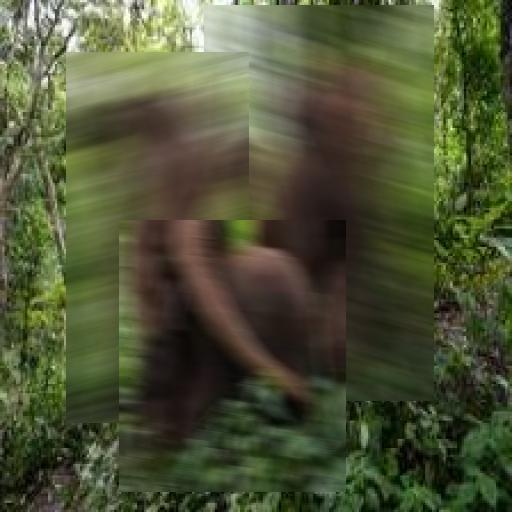Elephant: (204, 5, 434, 401), (66, 52, 249, 423), (119, 220, 346, 492)
